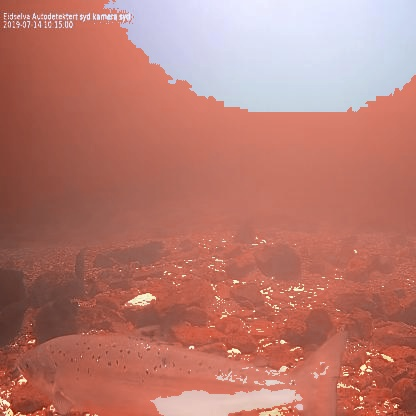salmon: (12, 320, 353, 416)
